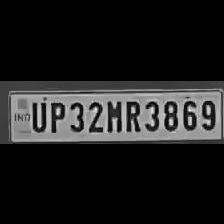2: (84, 96, 104, 132)
3: (140, 96, 160, 132), (66, 96, 84, 132)
6: (179, 94, 197, 130)
8: (160, 96, 180, 130)
9: (197, 94, 217, 130)
M: (102, 96, 122, 132)
P: (46, 96, 66, 132)
R: (122, 96, 142, 132)
U: (27, 97, 46, 131)
